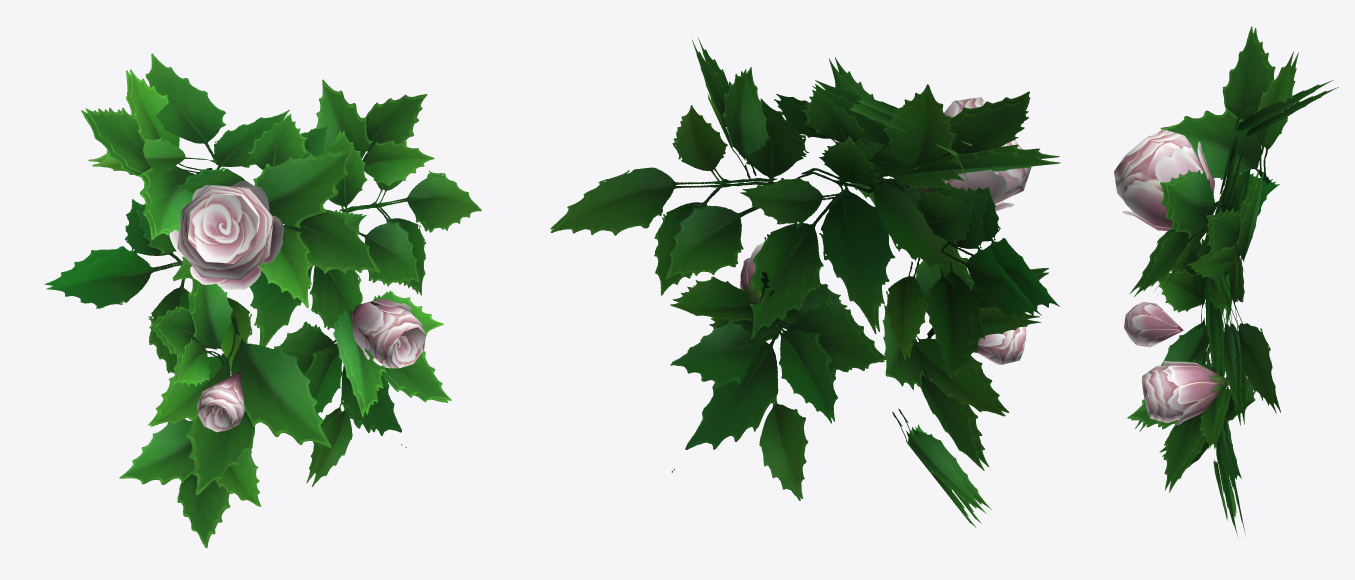
The model's file is SE_Rose_18.fbx.
3 renders of one model, left to right at view 1: azimuth 30°, elevation 25°; view 2: azimuth 150°, elevation 25°; view 3: azimuth 270°, elevation 25°, orthographic. The views are drawn at different scales.
Parts seen in each view (by area): view 1: SE_Rose_18; view 2: SE_Rose_18; view 3: SE_Rose_18.
Boxes of the visible parts, box(x1,y1,x2,y2) form: SE_Rose_18: box(45, 53, 481, 548); SE_Rose_18: box(550, 38, 1060, 527); SE_Rose_18: box(1114, 26, 1338, 537).
Size of the model in its own units: 2.96 by 2.85 by 1.27.
